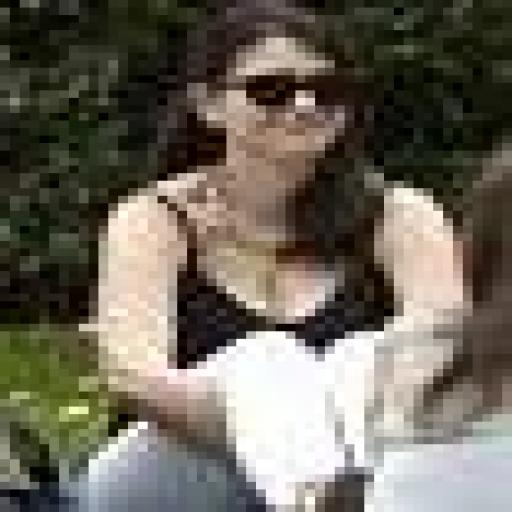person: (79, 0, 462, 511), (365, 144, 511, 511)
